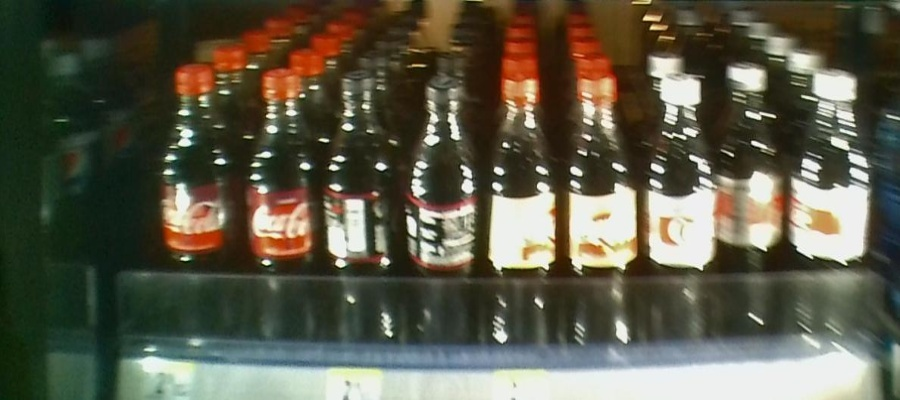bottle: (151, 56, 239, 344), (399, 74, 484, 354), (559, 74, 638, 354), (241, 64, 319, 345), (793, 68, 872, 338), (718, 53, 787, 349), (643, 67, 715, 347), (323, 68, 394, 351), (486, 80, 559, 353)
